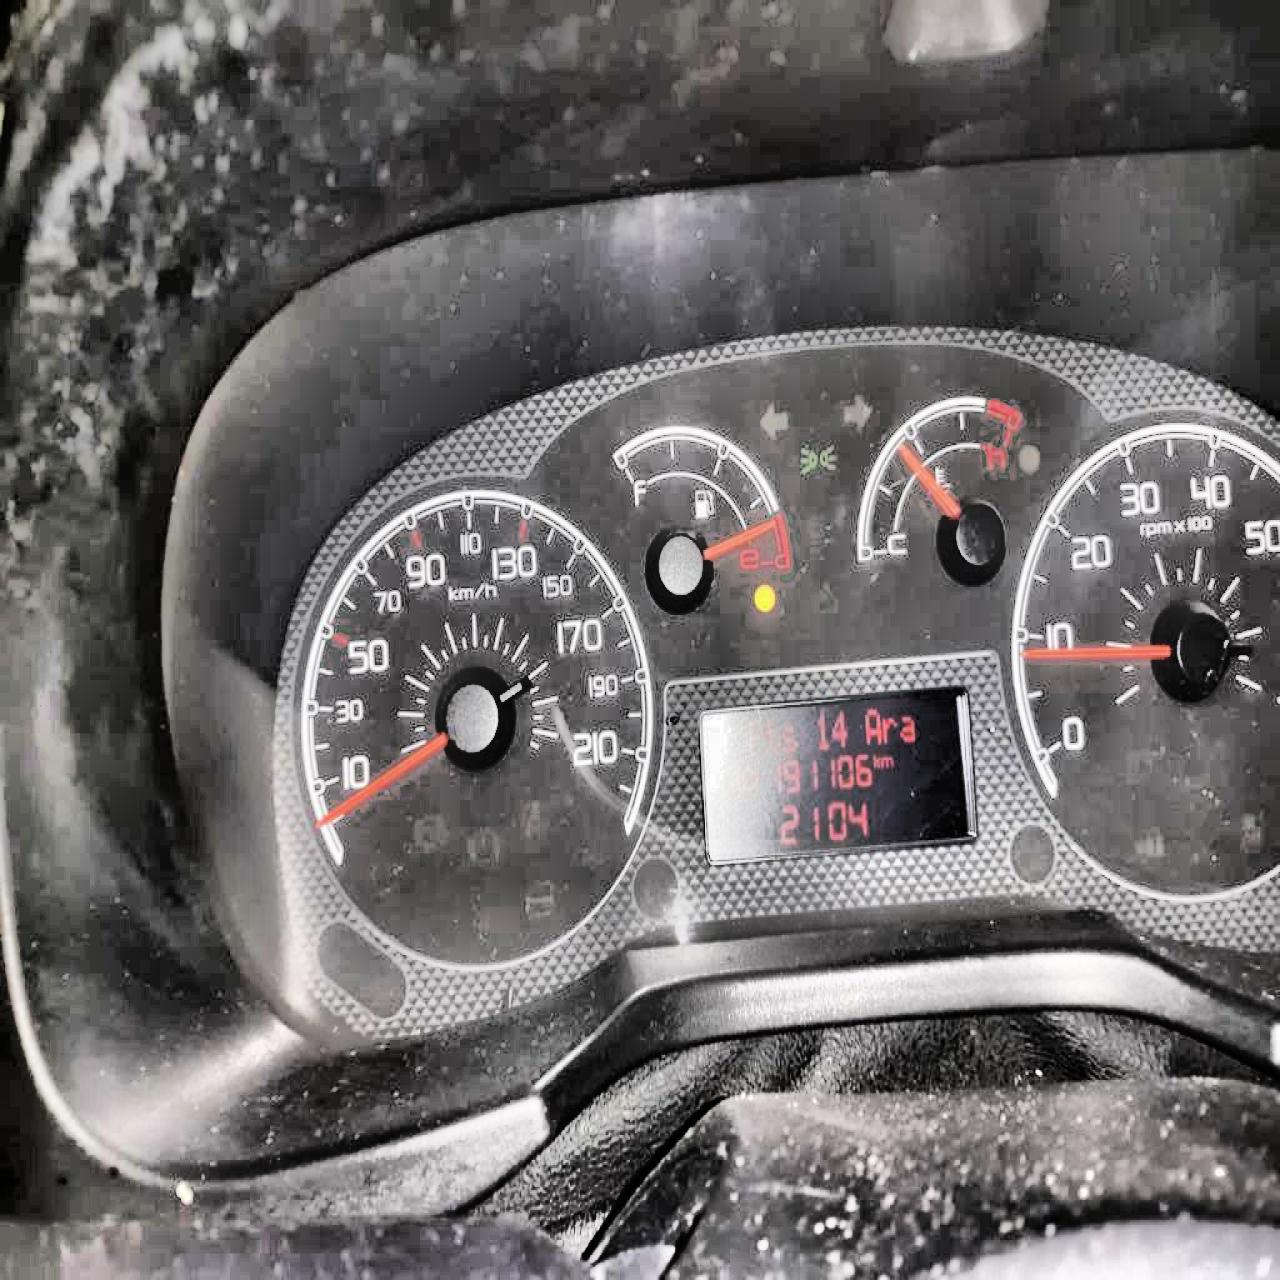0: (824, 798, 846, 842), (836, 750, 853, 790)
1: (817, 710, 828, 751), (810, 802, 821, 842), (809, 757, 819, 790), (775, 760, 783, 795), (829, 754, 836, 791)
2: (777, 802, 798, 846)
4: (849, 799, 870, 838), (830, 708, 849, 749)
6: (857, 750, 872, 788)
9: (784, 756, 799, 791)
X: (762, 715, 779, 755), (745, 713, 761, 755), (864, 707, 881, 743), (900, 712, 918, 743), (782, 722, 797, 751), (881, 714, 897, 743), (881, 751, 893, 768), (871, 750, 880, 768)
odometer: (694, 683, 981, 870)
